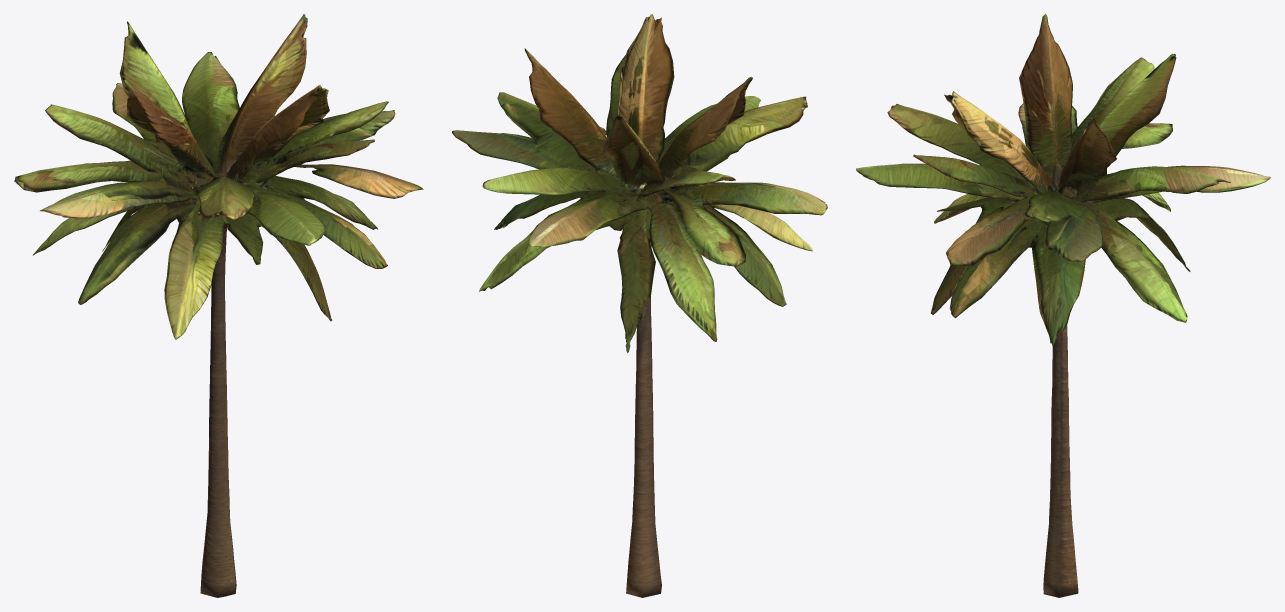
The model's file is palm2.glb.
3 views of the same model, side by side, from view 1: azimuth 30°, elevation 25°; view 2: azimuth 150°, elevation 25°; view 3: azimuth 270°, elevation 25° (orthographic). The views are drawn at different scales.
Bounding box in the file's own units: 1.42 × 2 × 1.42.
Materials: 1 (1 with a texture image).
